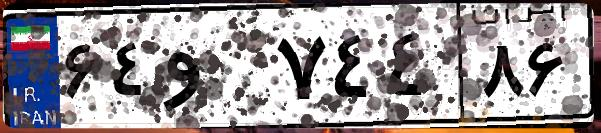4: (385, 28, 445, 110), (330, 28, 385, 110), (110, 28, 158, 98)
6: (57, 26, 110, 100), (525, 38, 570, 115)
7: (270, 28, 330, 110)
8: (475, 38, 525, 113)
و: (158, 20, 270, 120)
